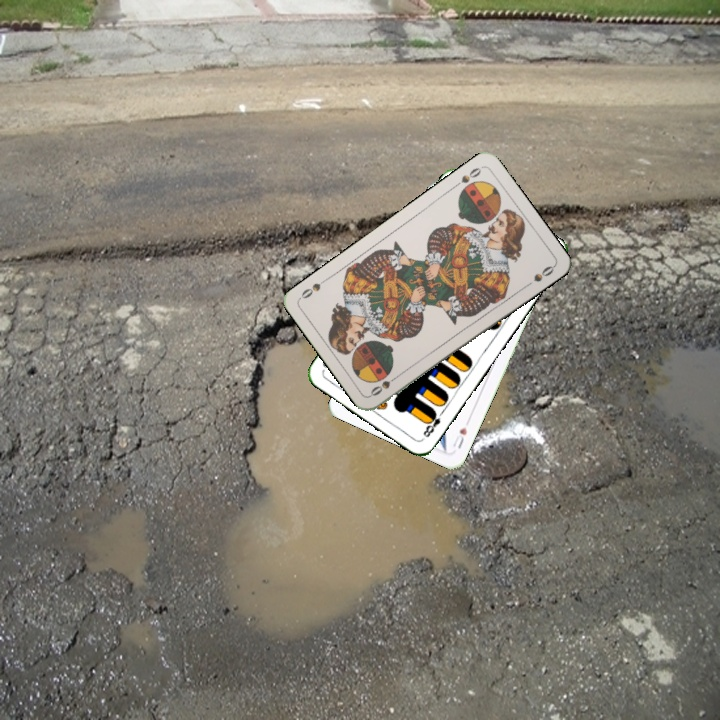E8: (419, 406, 447, 440)
HU: (448, 423, 470, 452)
SO: (366, 370, 402, 399), (449, 163, 485, 191)
